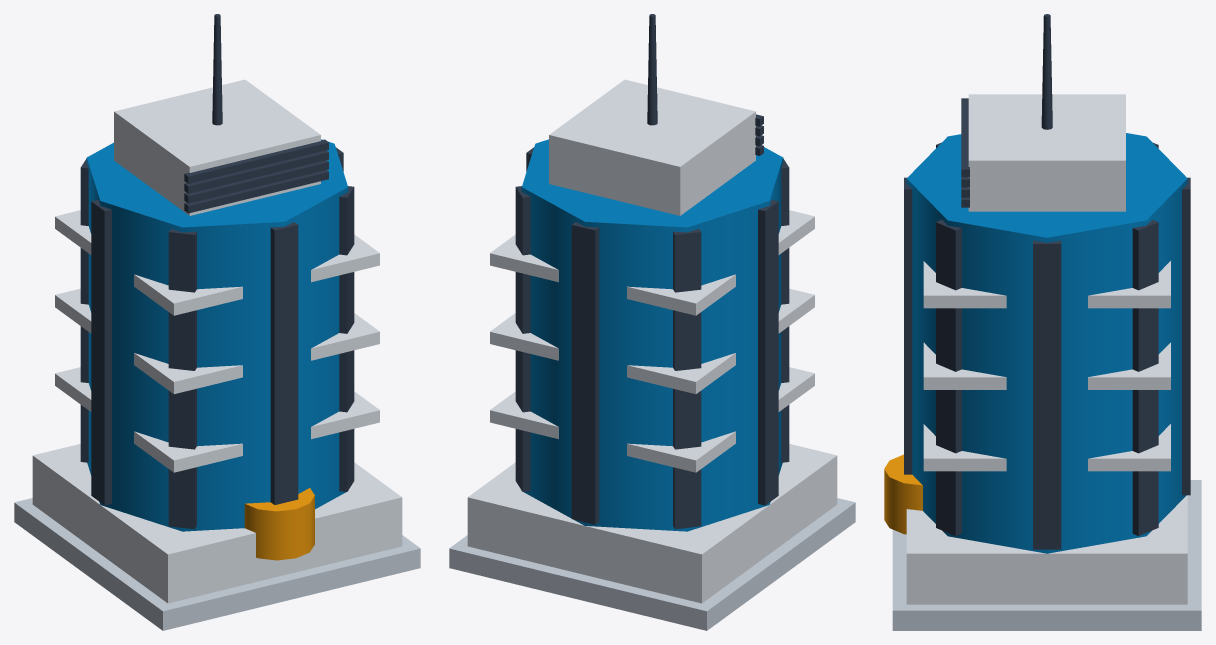
Rendered from bld_metropolis_c2.glb.
3 renders of one model, left to right at view 1: azimuth 30°, elevation 25°; view 2: azimuth 150°, elevation 25°; view 3: azimuth 270°, elevation 25°, orthographic. The views are drawn at different scales.
Parts seen in each view (by area): view 1: Bld_Metropolis_C2_SapphirePlaza; view 2: Bld_Metropolis_C2_SapphirePlaza; view 3: Bld_Metropolis_C2_SapphirePlaza.
Boxes of the visible parts, <box> form: Bld_Metropolis_C2_SapphirePlaza: <box>14,14,420,630</box>; Bld_Metropolis_C2_SapphirePlaza: <box>449,14,855,630</box>; Bld_Metropolis_C2_SapphirePlaza: <box>884,14,1201,630</box>.
Size of the model in its own units: 0.55 by 1.08 by 0.565.
